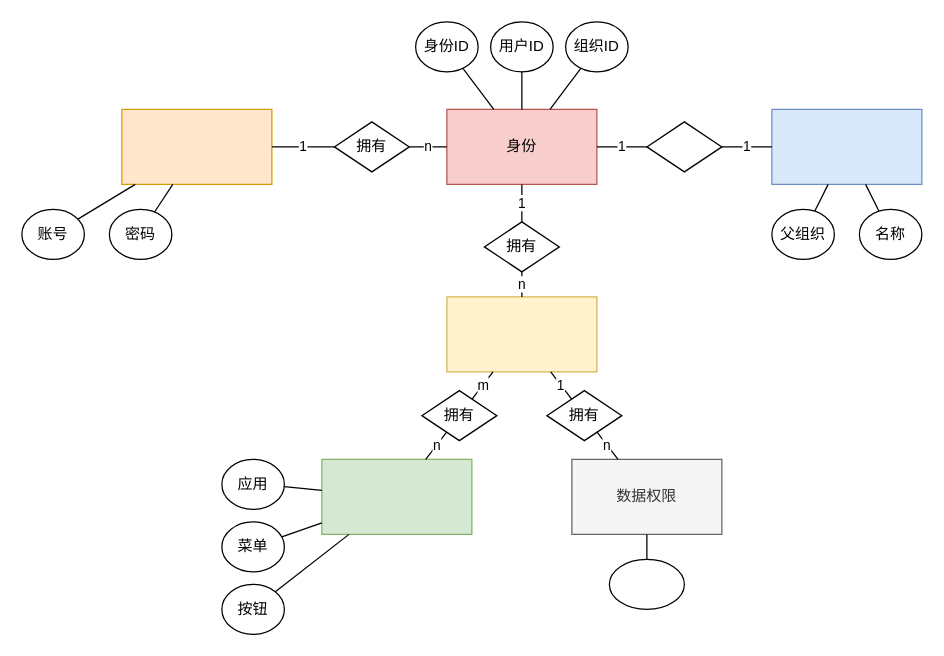
Image size: 944x656. Some labels were removed from this diagram. The centre of each missing label's shape, as x and y in pixels:
"从属" goes at (684,146).
"操作权限" goes at (396,496).
"用户" goes at (196,146).
"组织树" goes at (846,146).
"组织范围" goes at (646,583).
"角色" goes at (521,334).
